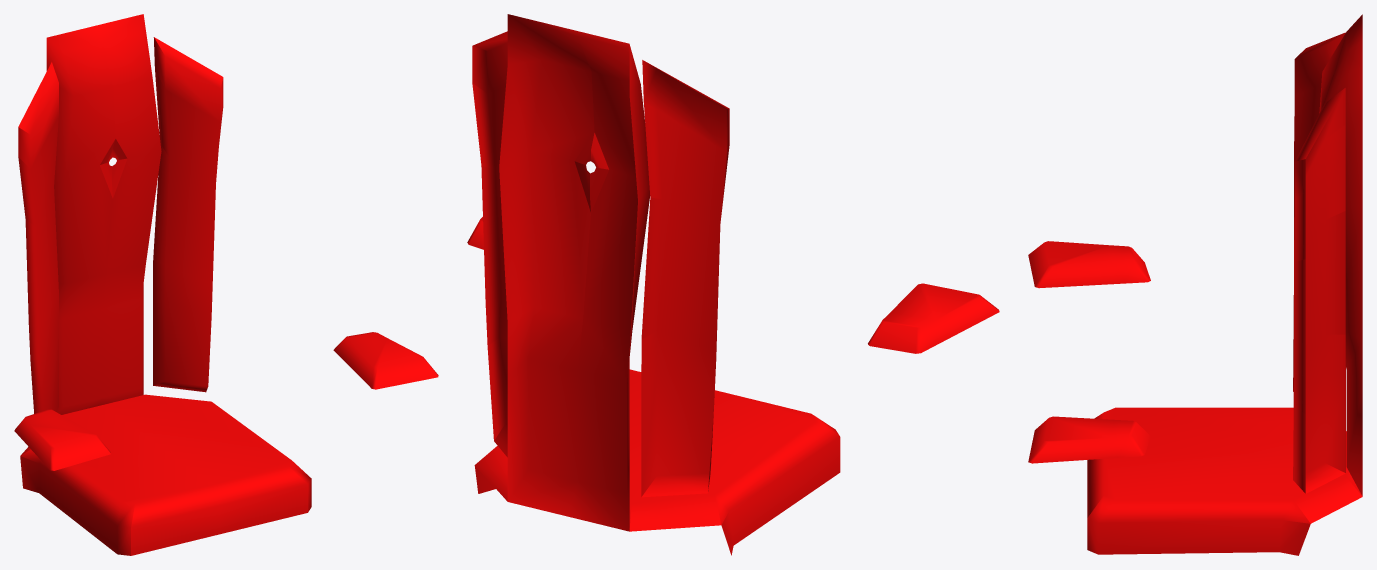
Rendered from Throne_Velvet.obj.
The picture shows the model from 3 angles, left to right: view 1: azimuth 30°, elevation 25°; view 2: azimuth 150°, elevation 25°; view 3: azimuth 270°, elevation 25°; orthographic projection. The views are drawn at different scales.
Parts seen in each view (by area): view 1: default; view 2: default; view 3: default.
Part boxes in pixels (box(x1,y1,x2,y2)): default: box(14, 14, 438, 555); default: box(467, 14, 999, 555); default: box(1028, 14, 1362, 555).
Size of the model in its own units: 4.12 by 4.23 by 2.78.
